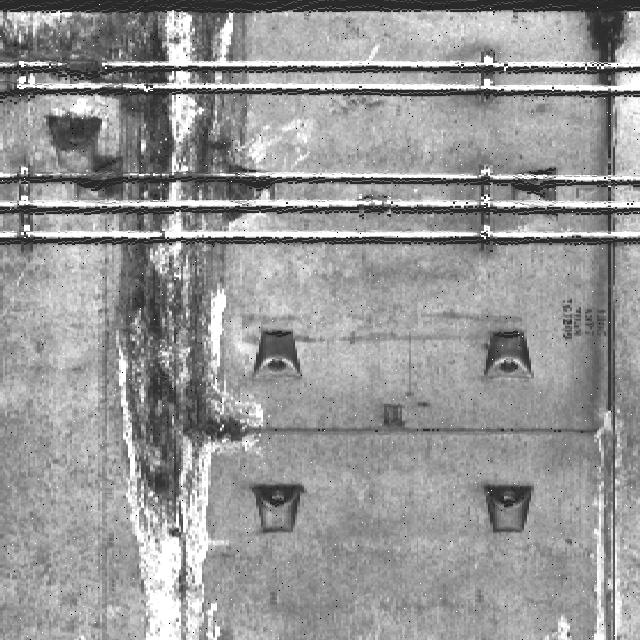leakage: (90, 1, 252, 639), (585, 9, 637, 119)
